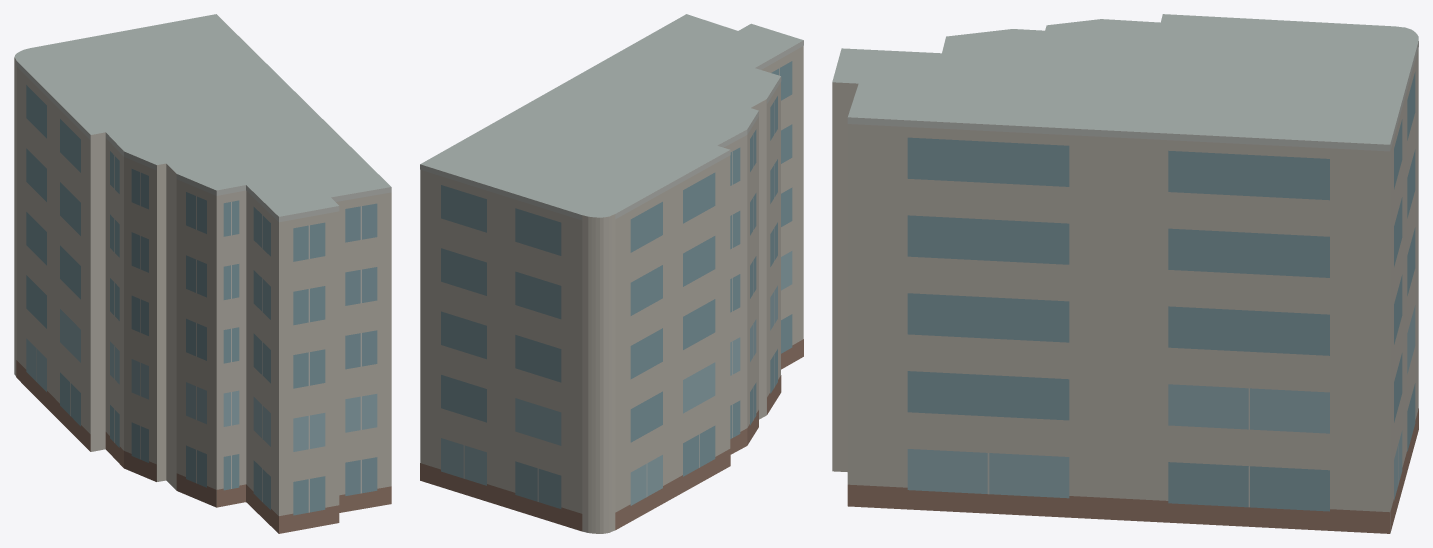
Rendered from survey-upis-32999962.glb.
The picture shows the model from 3 angles, left to right: view 1: azimuth 30°, elevation 25°; view 2: azimuth 150°, elevation 25°; view 3: azimuth 270°, elevation 25°; orthographic projection. The views are drawn at different scales.
Parts seen in each view (by area): view 1: survey-upis-32999962.tmp; view 2: survey-upis-32999962.tmp; view 3: survey-upis-32999962.tmp.
Part boxes in pixels (x1=…): survey-upis-32999962.tmp: x1=14, y1=14, x2=391, y2=533; survey-upis-32999962.tmp: x1=420, y1=14, x2=803, y2=533; survey-upis-32999962.tmp: x1=832, y1=14, x2=1418, y2=533.
Bounding box in the file's own units: 10.24 × 14.2 × 19.41.
